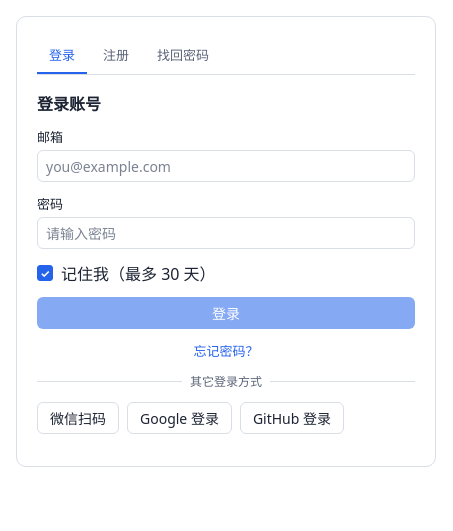
it: 注册（FR-ACC-01 / E2E-01） › 弱密码与两次不一致实时提示，满足要求后可提交
Click the tab "注册": click(116, 56) [91,37,141,74]
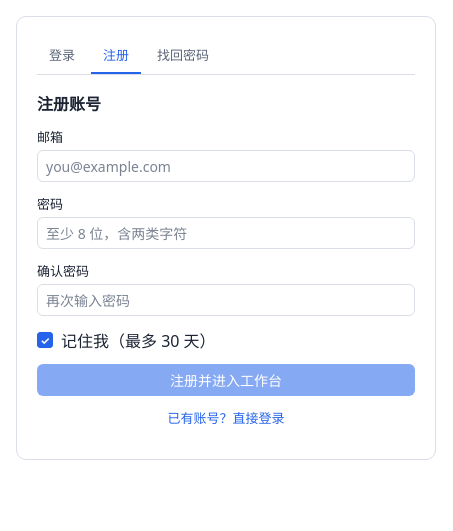
In the field named "注册邮箱": (226, 166) [46,151,406,181], type "dev@example.com"
In the password field named "注册密码": (226, 233) [46,218,406,248], type "123"
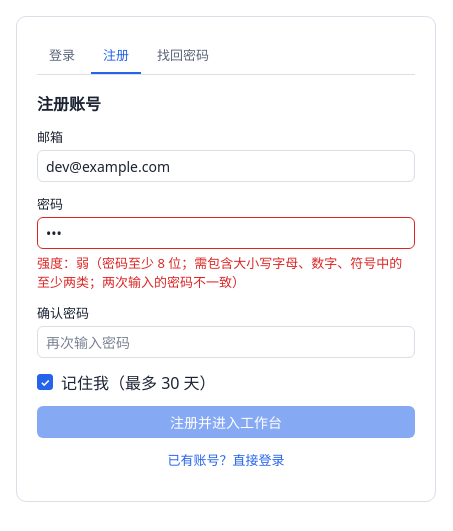
Check: the button "注册并进入工作台" is disabled, box [37,406,415,438]
Check: the message shows "至少 8 位", box [37,254,402,291]
In the password field named "注册密码": (226, 233) [46,218,406,248], type "Abcd1234!xyz"
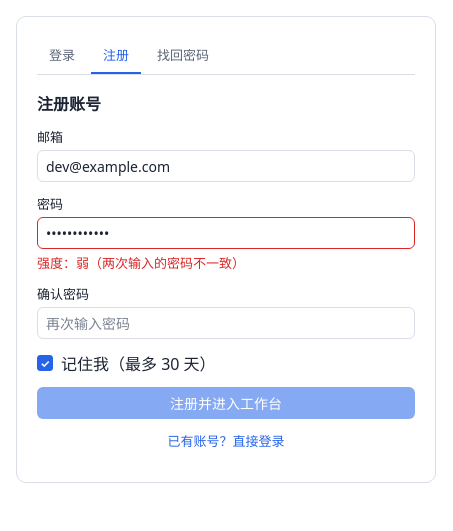
In the password field labelled "确认密码": (226, 323) [46,308,406,338], type "Abcd9999"
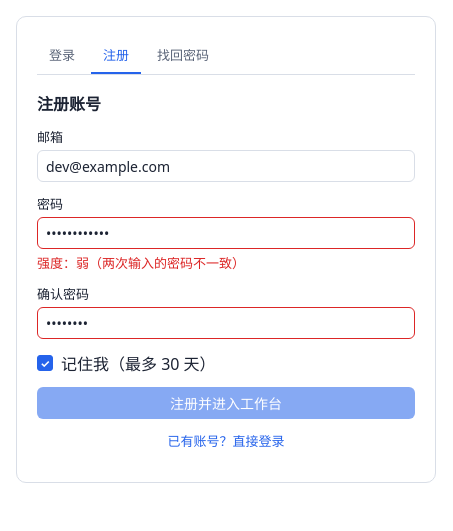
Check: the message shows "两次输入的密码不一致", box [37,254,245,272]
Check: the button "注册并进入工作台" is disabled, box [37,387,415,419]
In the password field labelled "确认密码": (226, 323) [46,308,406,338], type "Abcd1234!xyz"
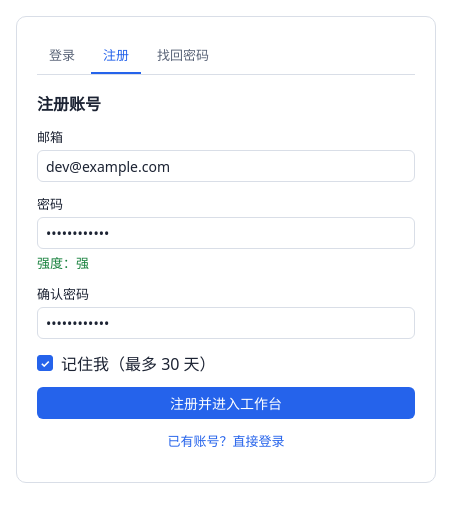
Check: the message reads "强度：强", box [37,254,89,272]
Check: the button "注册并进入工作台" is enabled
Click the button "注册并进入工作台": click(226, 403) [37,387,415,419]
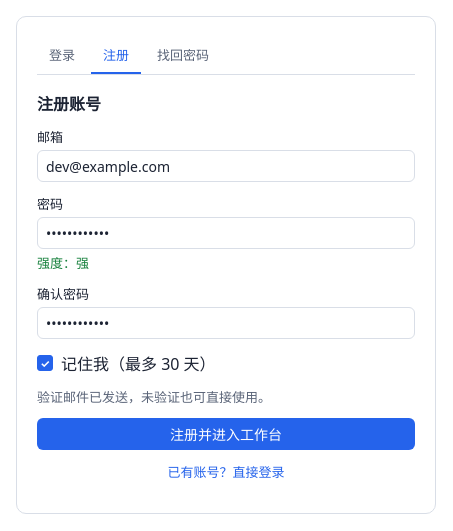
Check: the text "验证邮件已发送，未验证也可直接使用。" is shown, box [37,388,271,406]
